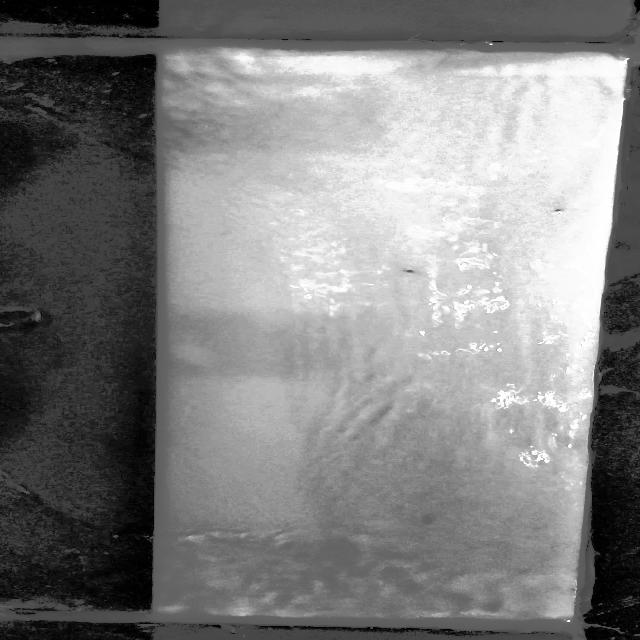shrimp: (419, 511, 450, 528), (393, 265, 425, 275), (545, 203, 569, 216)
